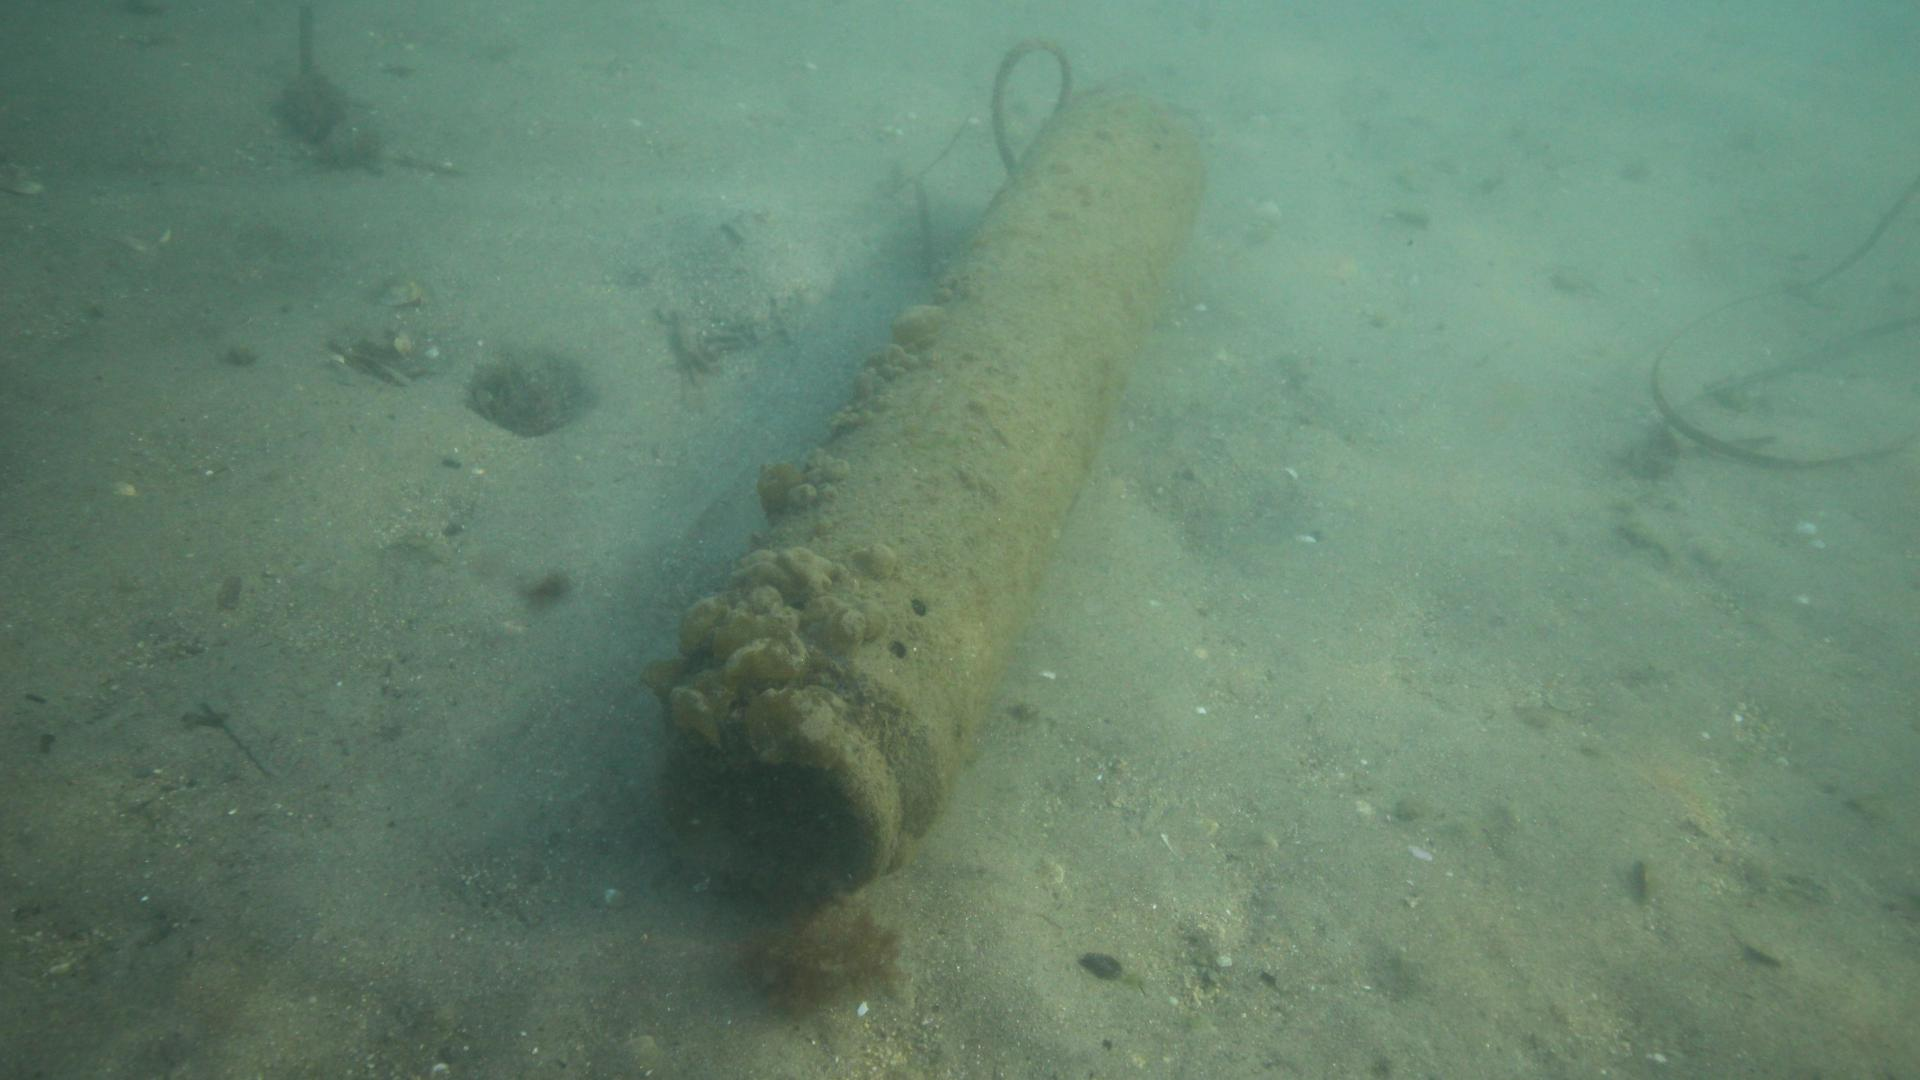eel fish trap: (644, 84, 1204, 906)
rope: (986, 33, 1069, 174)
